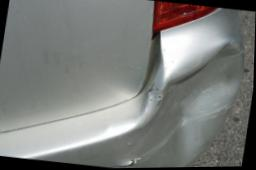Bumper: (135, 32, 255, 168)
